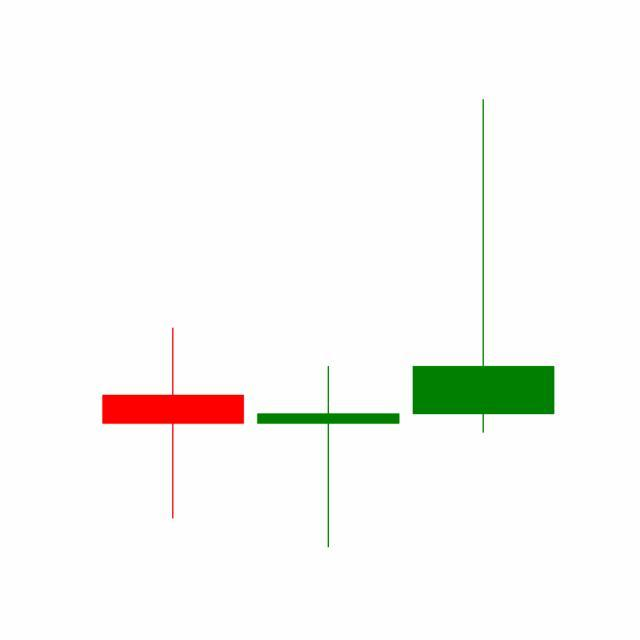Spinning Top: (250, 364, 407, 550)
